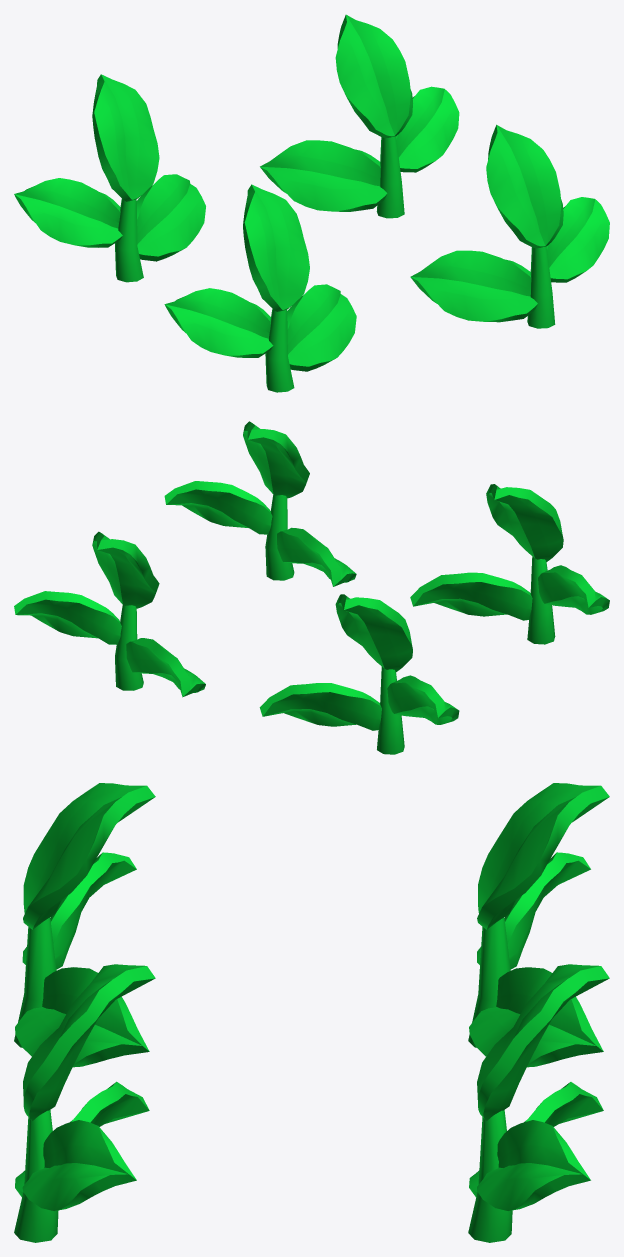
The model's file is Farm_Crop_Tulip_01_Step_01.fbx.
3 views of the same model, one above another, from view 1: azimuth 30°, elevation 25°; view 2: azimuth 150°, elevation 25°; view 3: azimuth 270°, elevation 25° (orthographic). The views are drawn at different scales.
Parts seen in each view (by area): view 1: Farm_Crop_Tulip_01_Step_01; view 2: Farm_Crop_Tulip_01_Step_01; view 3: Farm_Crop_Tulip_01_Step_01.
Boxes of the visible parts, x1=… form: Farm_Crop_Tulip_01_Step_01: x1=14, y1=14, x2=609, y2=392; Farm_Crop_Tulip_01_Step_01: x1=14, y1=421, x2=609, y2=754; Farm_Crop_Tulip_01_Step_01: x1=14, y1=783, x2=609, y2=1242.
Size of the model in its own units: 165 by 63.72 by 131.
